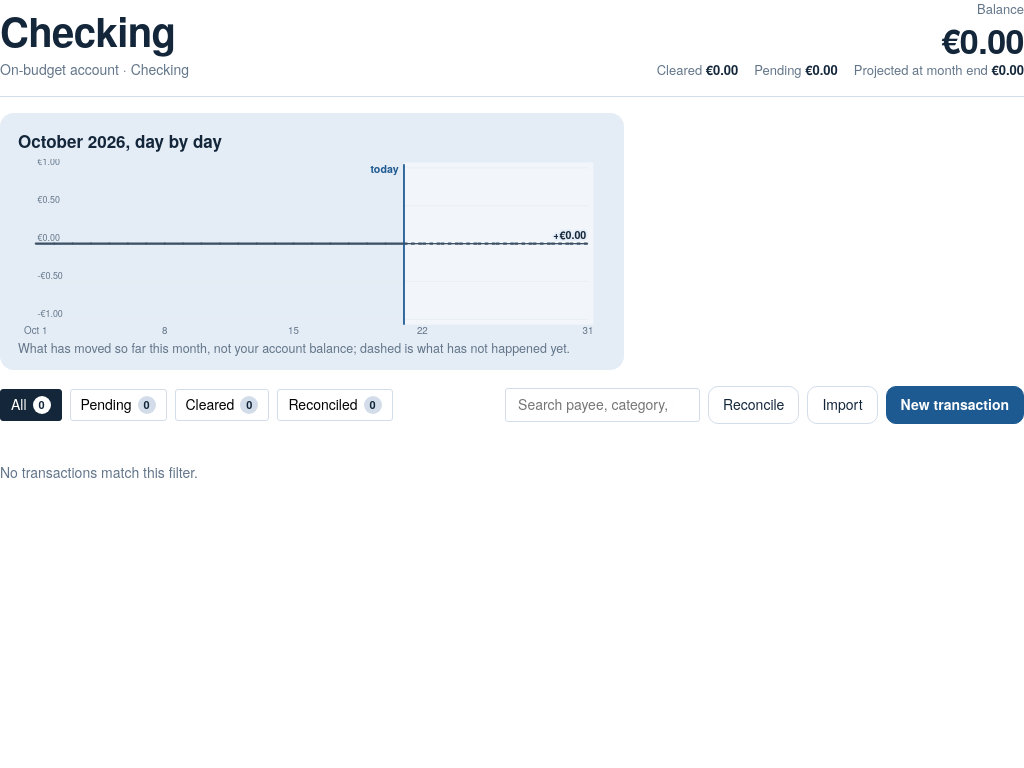
AccountRegisterScreen (#54, #333) › opens a blank form from 'New transaction'
Expected: the text "No transactions match this filter." is shown, [0,462,198,482]
What coordinates should you click on to do the following:
click the button "New transaction"
I would click on:
 (955, 405)
Its box is [886,386,1023,424].
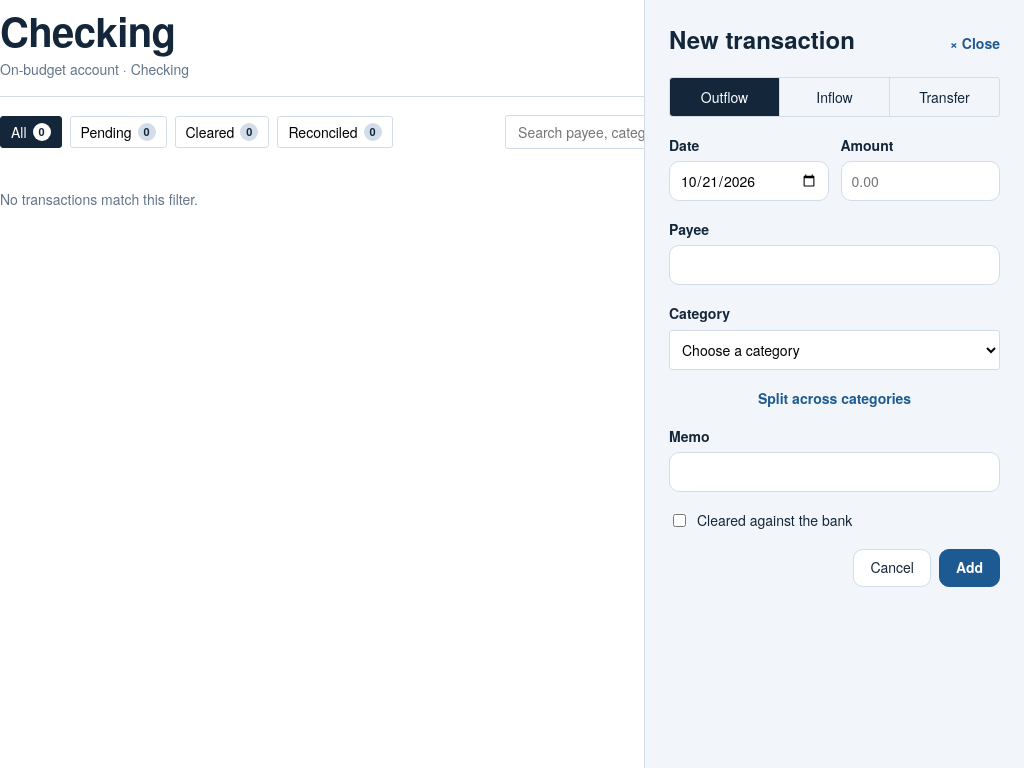
Now the heading "New transaction" is shown, box [669,22,855,57]
